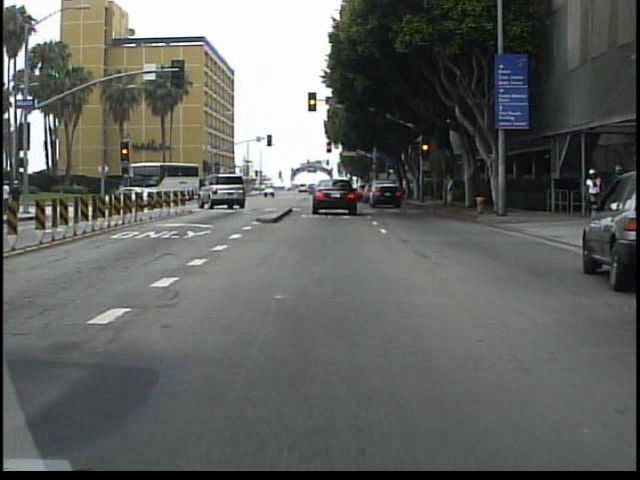person: (440, 168, 457, 211), (14, 176, 25, 213), (5, 177, 14, 217), (608, 163, 625, 176)
